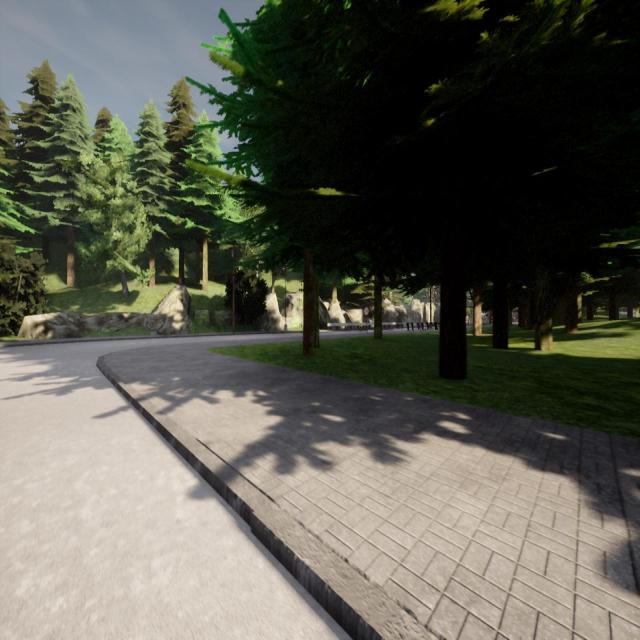Traffic_Signs: (364, 308, 369, 316)
